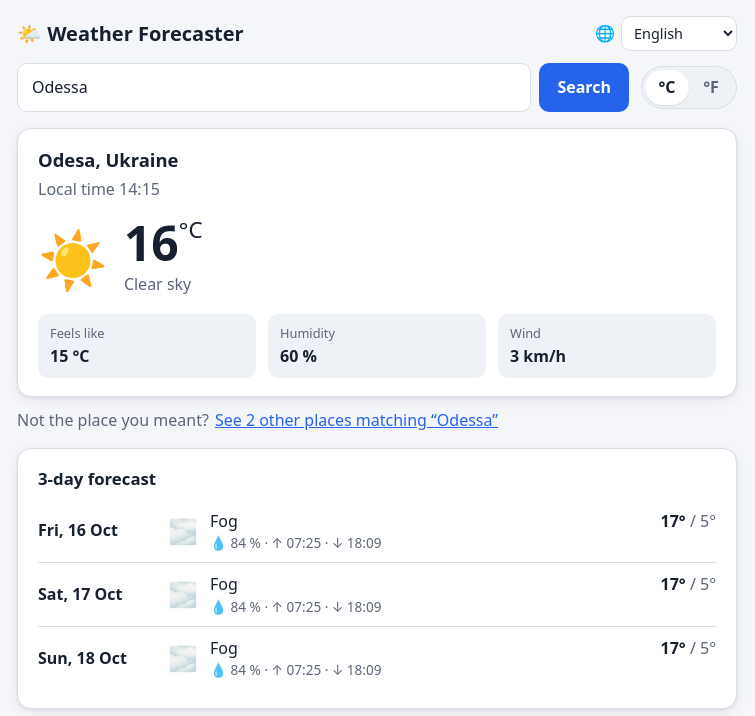
Test: SearchPage › links to every place matching the name and shows the picked one
The image size is (755, 716).
Click the link "See 2 other places matching “Odessa”" at (356, 420), box [215, 409, 498, 431]
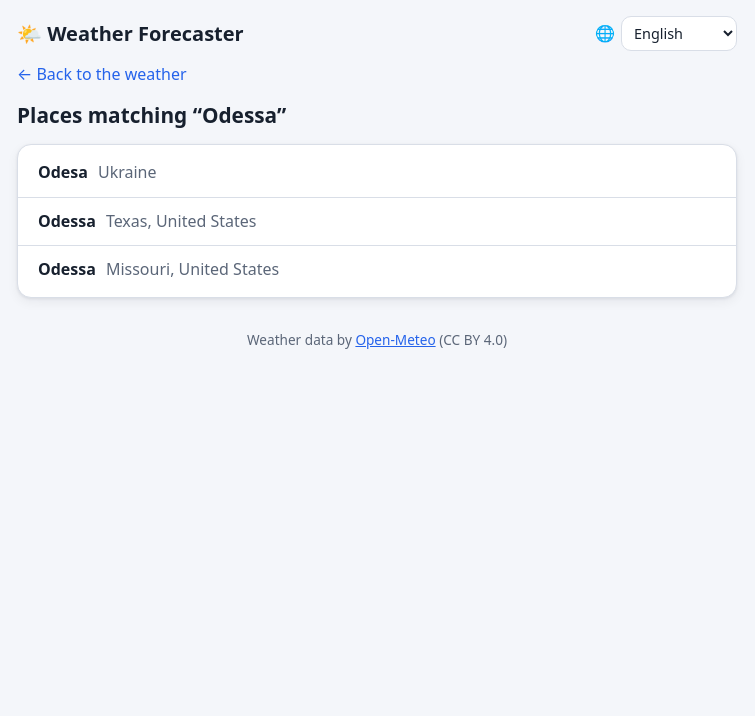
Click the link "Odessa Missouri, United States" at (159, 269), box [38, 258, 279, 280]
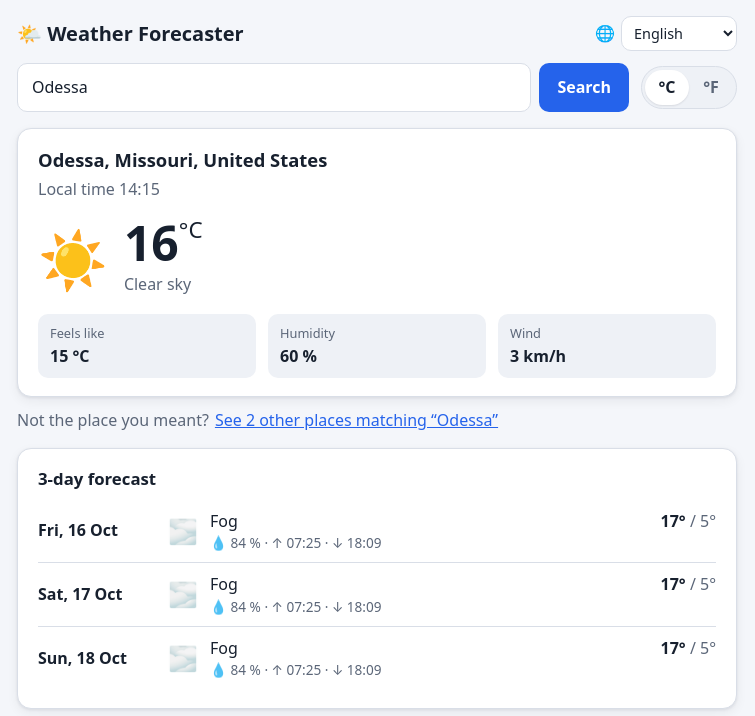
Now the text "Odessa, Missouri, United States" is shown, box [38, 147, 327, 172]
